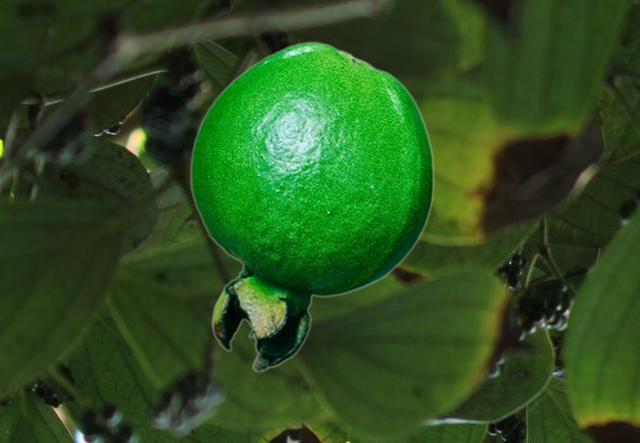guava: (189, 41, 434, 371)
